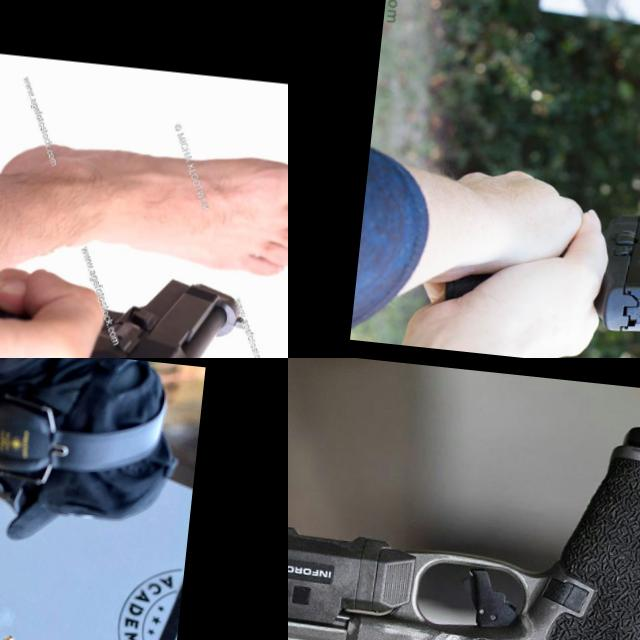handgun: (288, 381, 640, 640), (433, 187, 640, 343), (0, 239, 256, 358), (0, 580, 39, 640)
